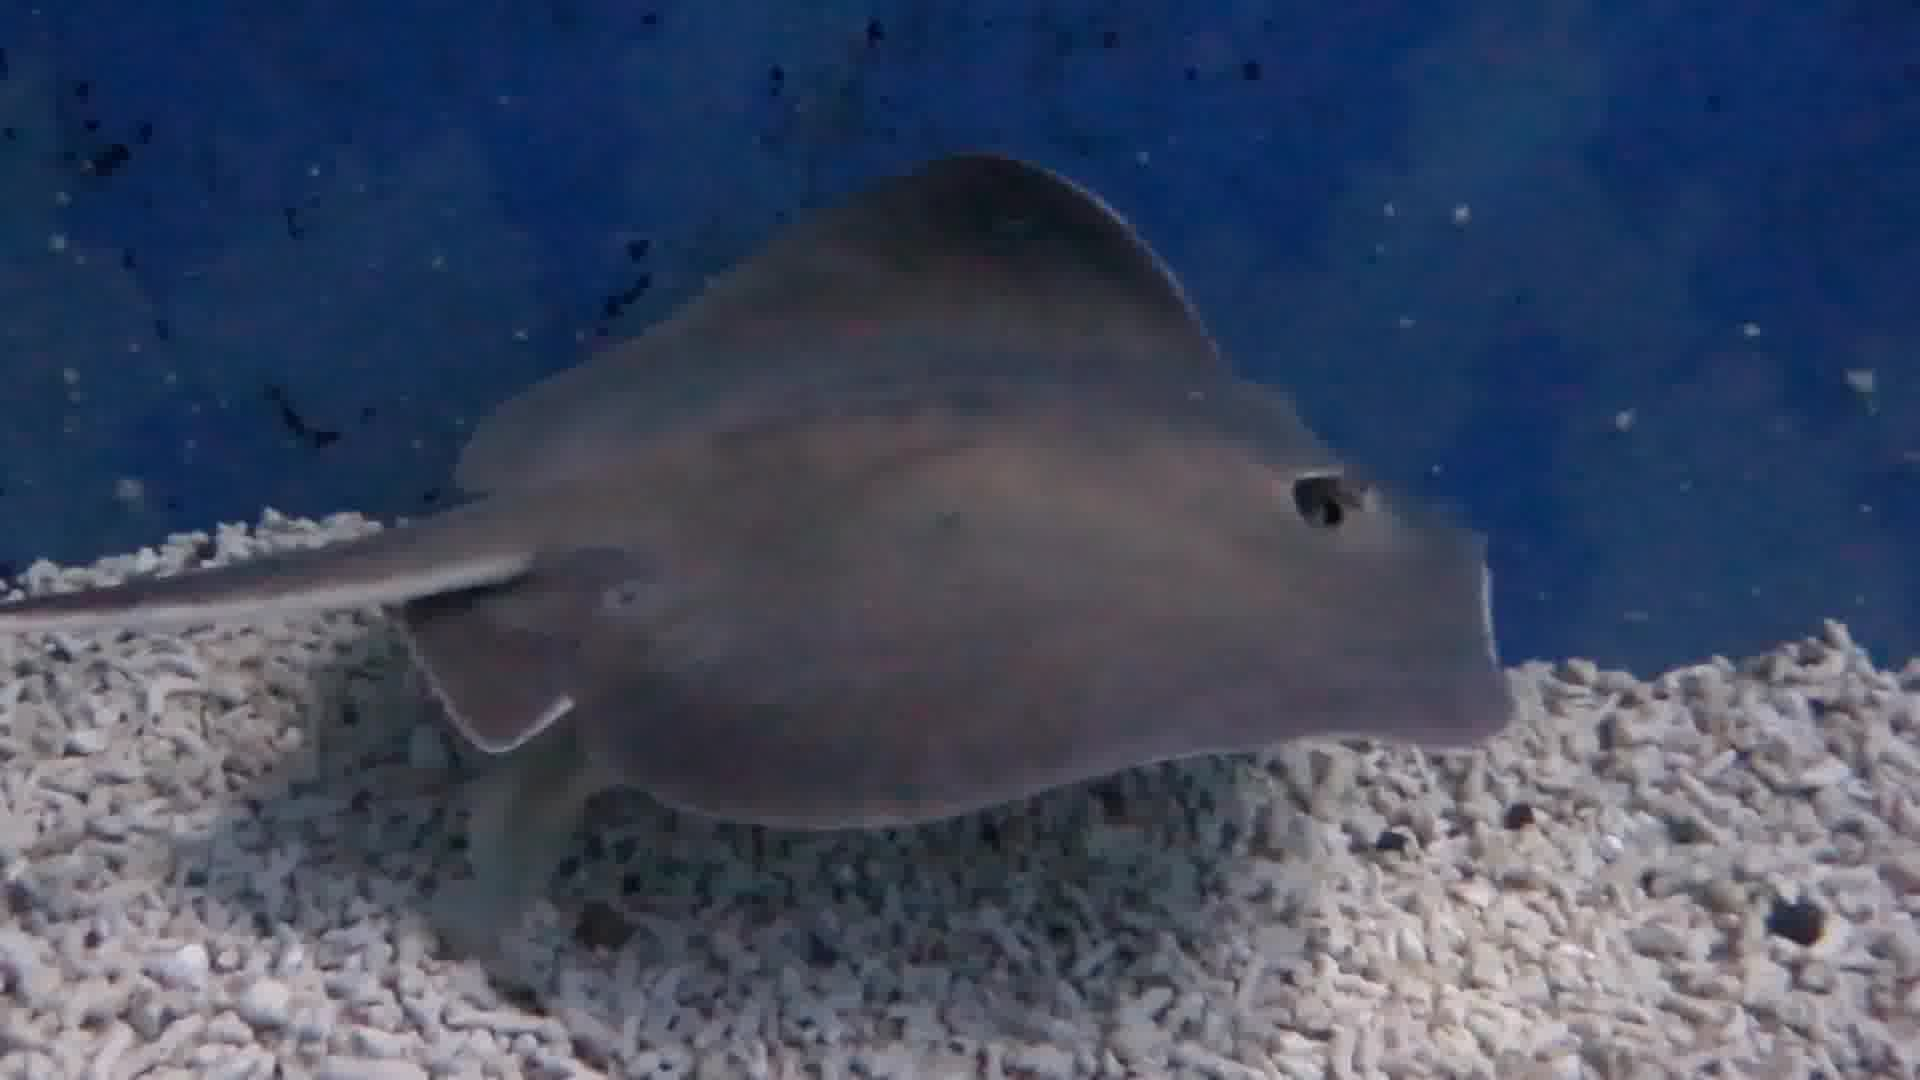Dasyatis bennetti: (306, 83, 1553, 924)
